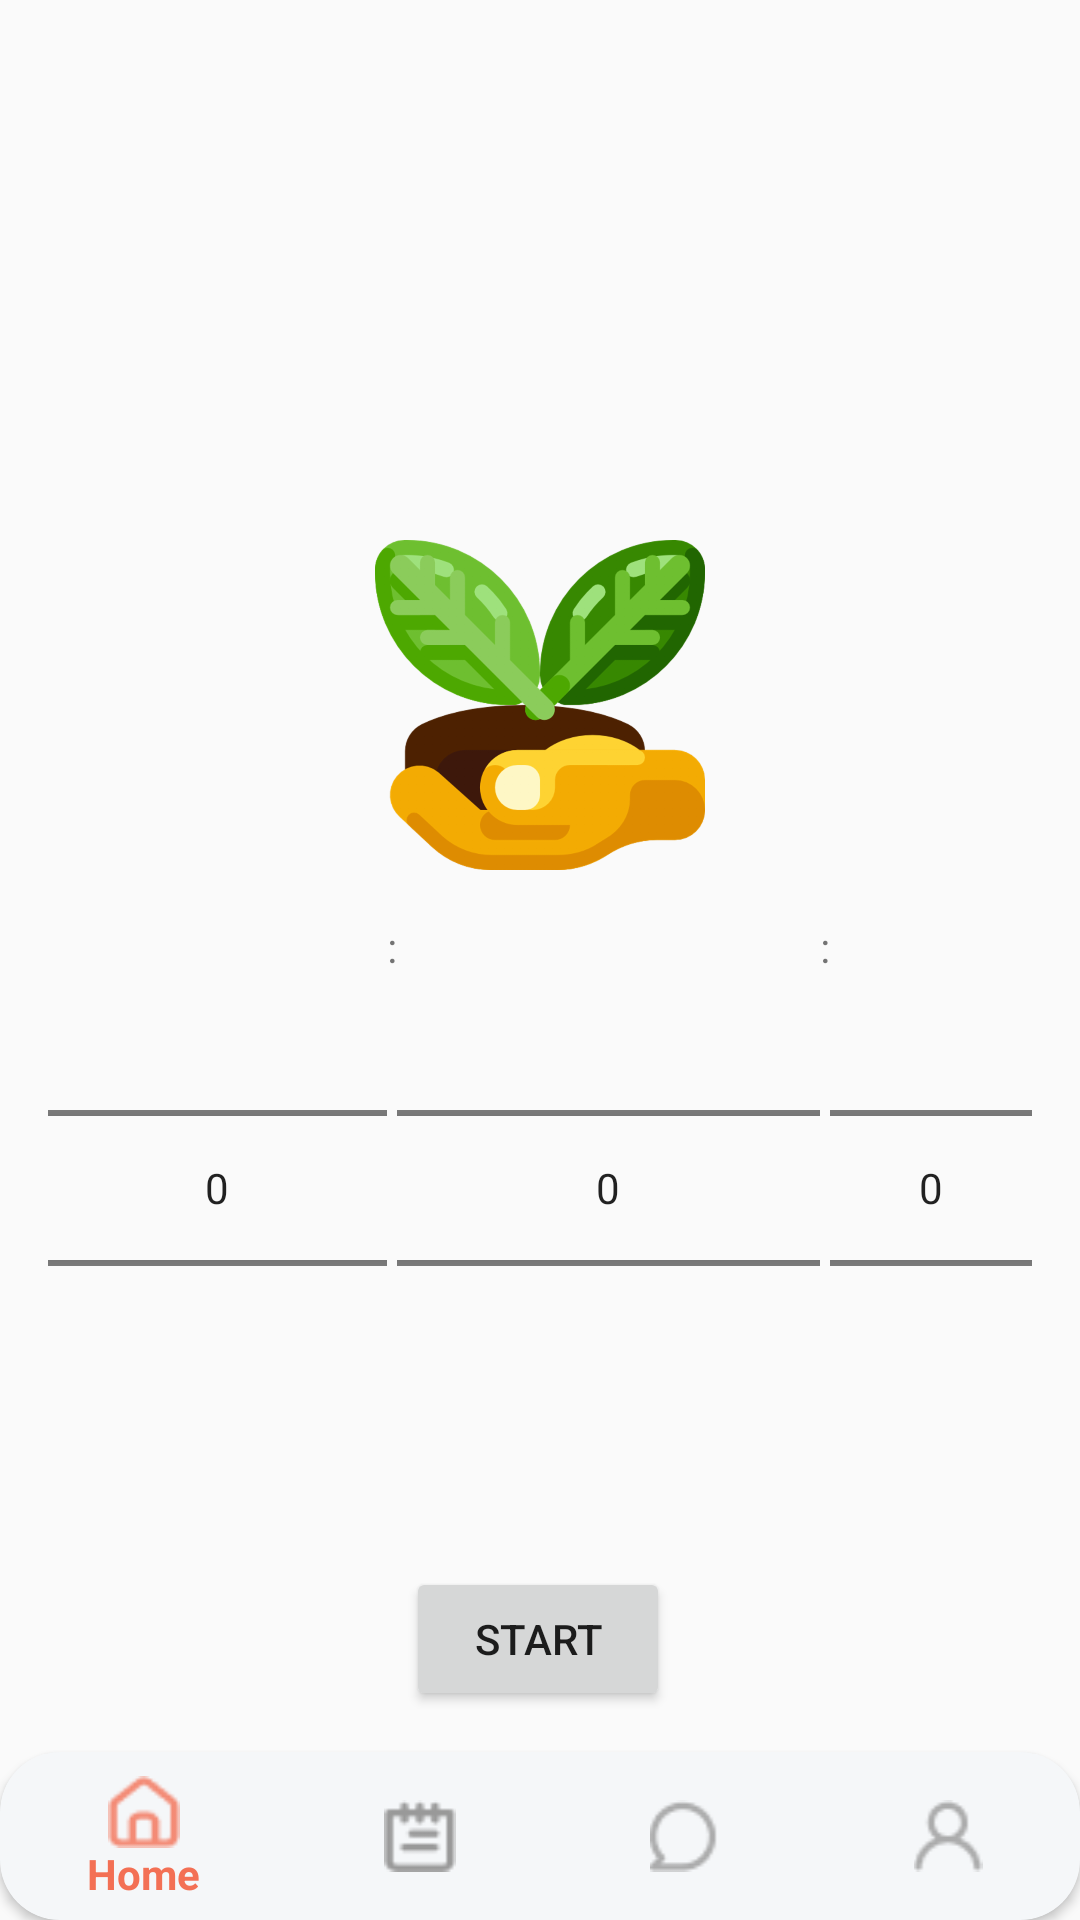

Screen size 1080 x 1920. Icon name, then its center in pixels as [x,y]:
plant: [540,705]
